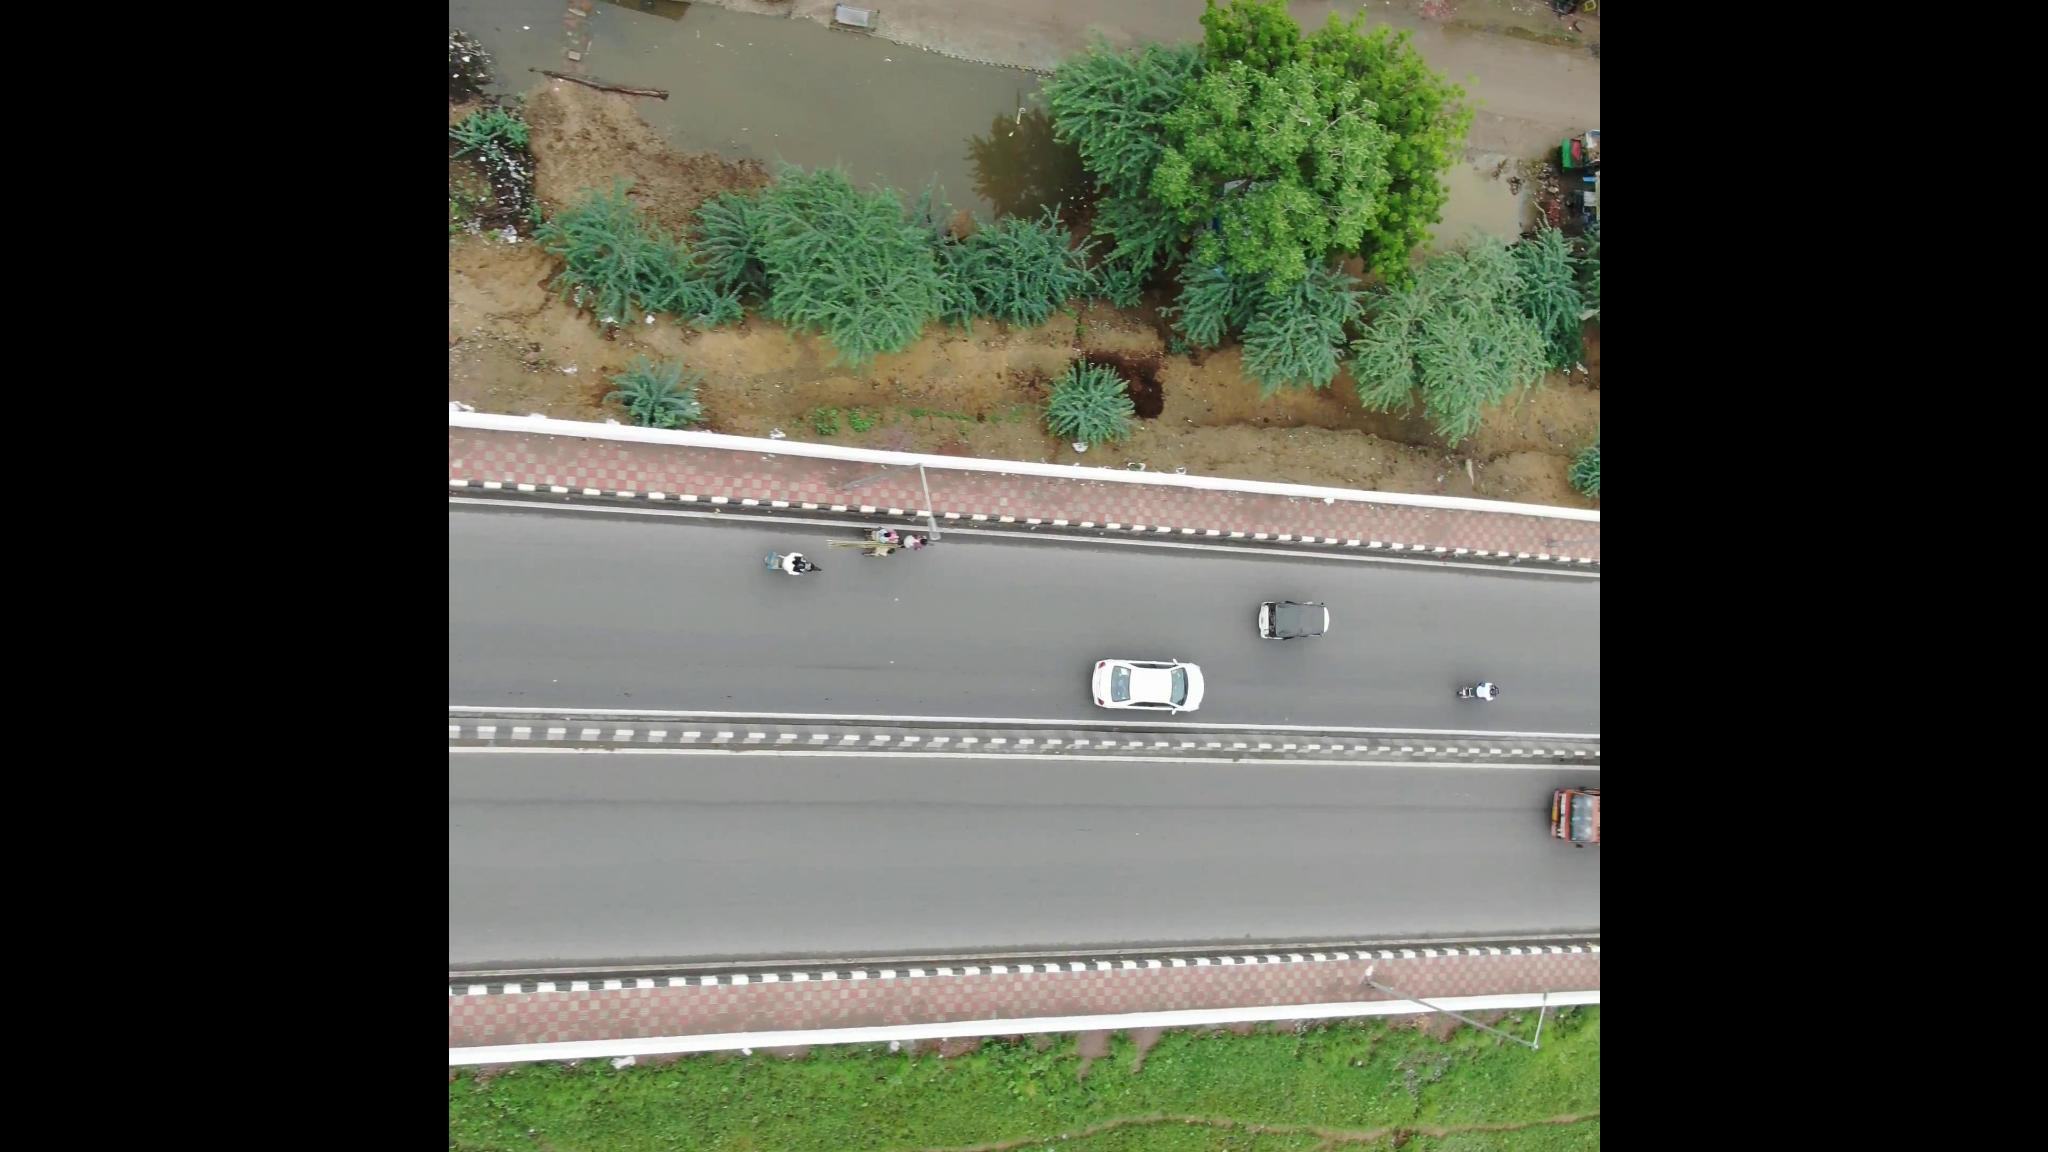Waterlogging: (470, 1, 847, 172), (838, 23, 1069, 224)
